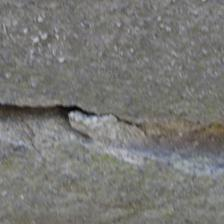Crack: (2, 48, 148, 98)
